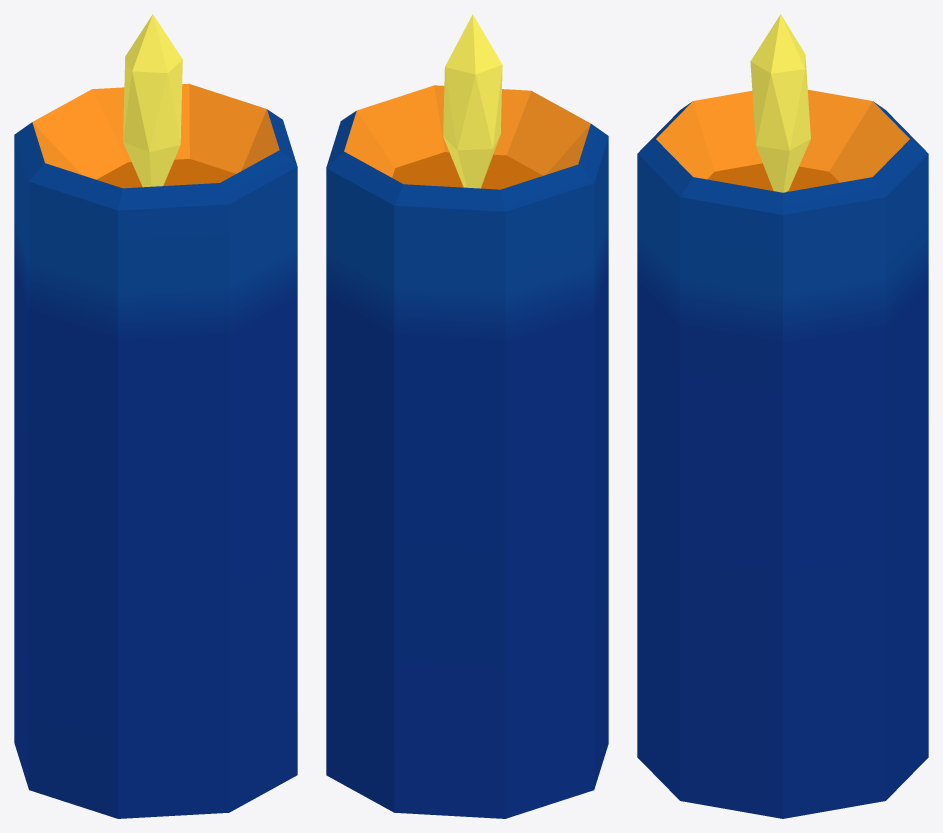
File: vela-004.gltf
3 renders of one model, left to right at view 1: azimuth 30°, elevation 25°; view 2: azimuth 150°, elevation 25°; view 3: azimuth 270°, elevation 25°, orthographic.
Visible parts, largest first — view 1: Vela_Azul-f.004; view 2: Vela_Azul-f.004; view 3: Vela_Azul-f.004.
Part boxes in pixels (x1,y1,x2,y2): Vela_Azul-f.004: (14, 14, 297, 818); Vela_Azul-f.004: (326, 14, 608, 818); Vela_Azul-f.004: (637, 14, 928, 818).
Size of the model in its own units: 0.0971 by 0.273 by 0.0971.
Materials: 1 (1 with a texture image).
